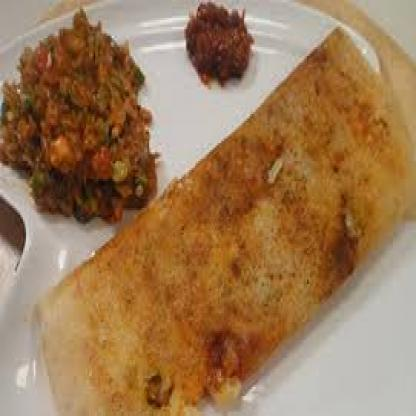dosa: (35, 27, 416, 416)
